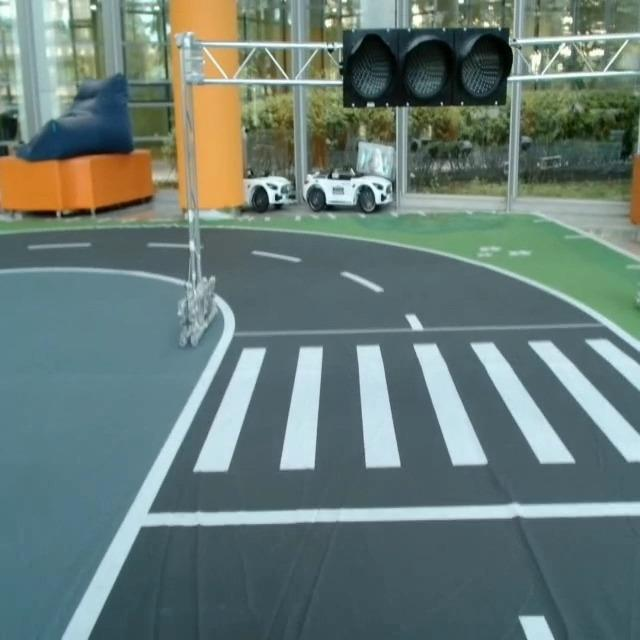traffic-light: (336, 24, 513, 113)
